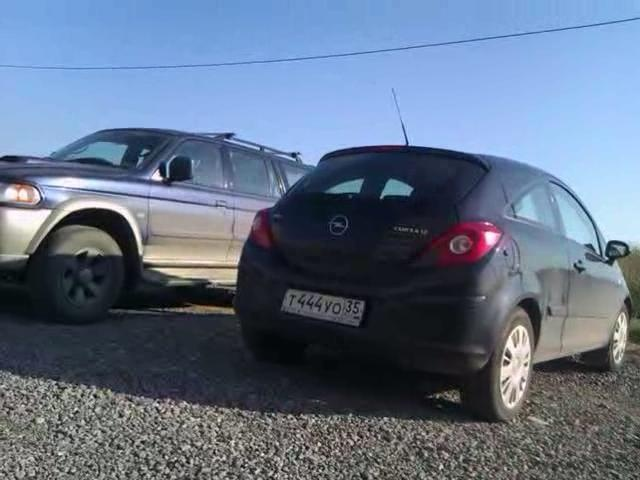car license plate: (282, 286, 365, 332)
